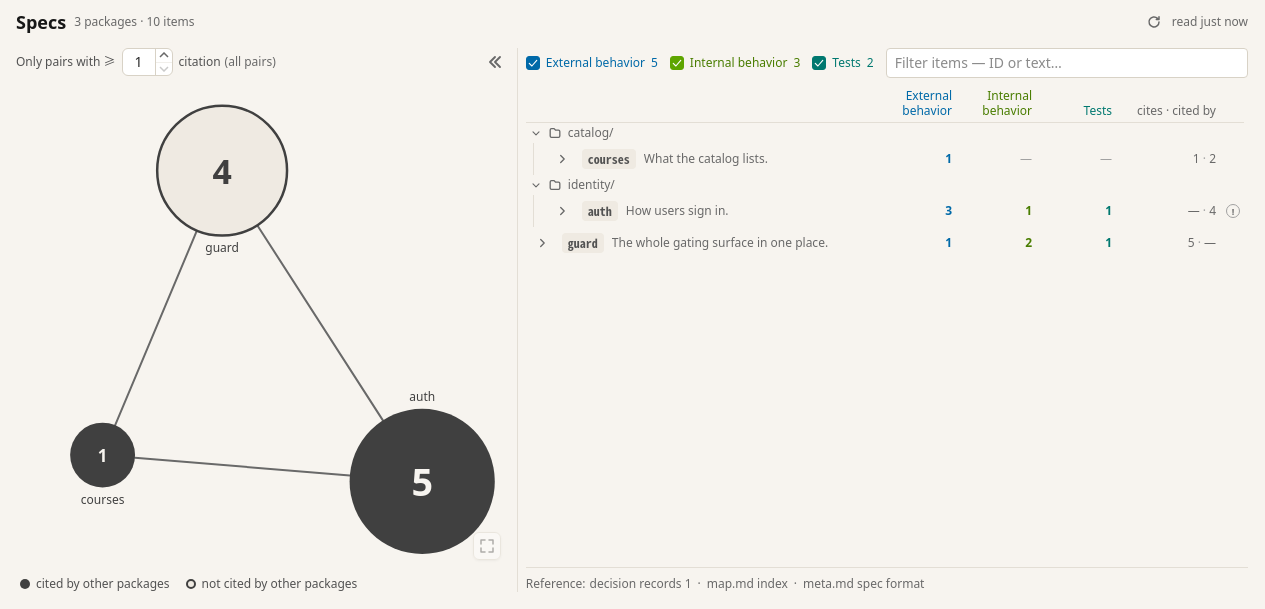
spec-view-65: columns and filters › one heading row names the columns; a filtered group leaves them, said once
The image size is (1265, 609).
Expected: the element labelled "External behavior" is shown, [902,87,952,119]
Expected: the element labelled "Internal behavior" is shown, [982,87,1032,119]
Click the button with test id "filter-internal" at (735, 63), box [670,53,800,73]
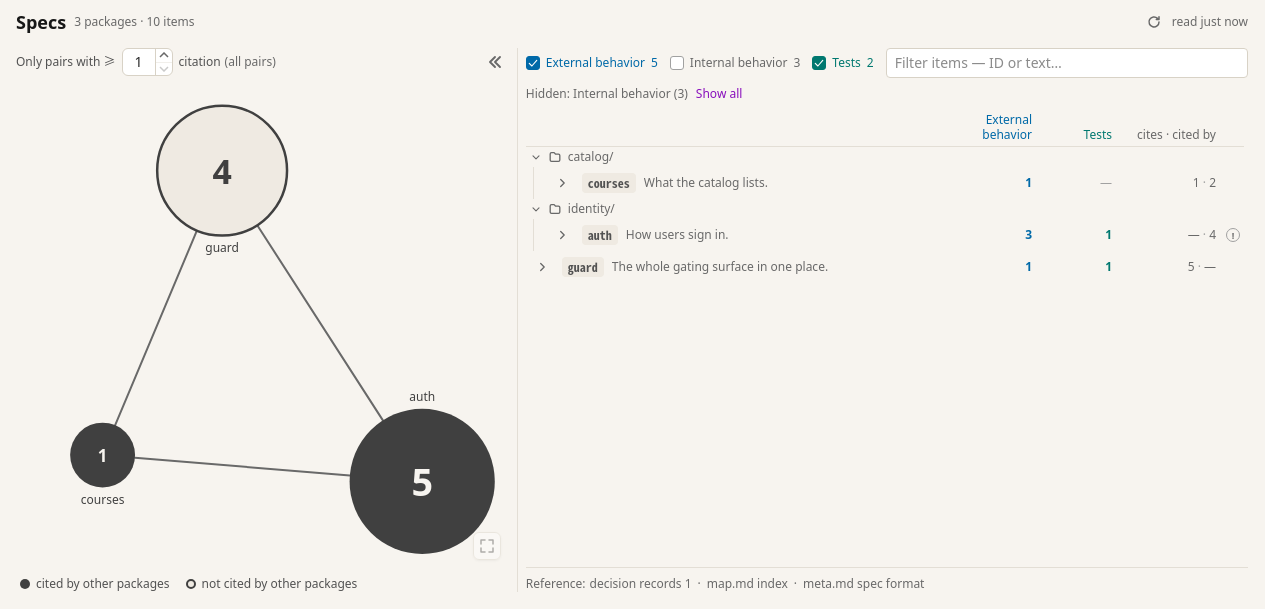
Expected: the element with test id "column-internal" is gone
Expected: the element with test id "hidden-groups" shows "Hidden: Internal behavior (3)", [526,85,688,102]
Click the button with test id "filter-test" at (843, 63), box [812,53,874,73]
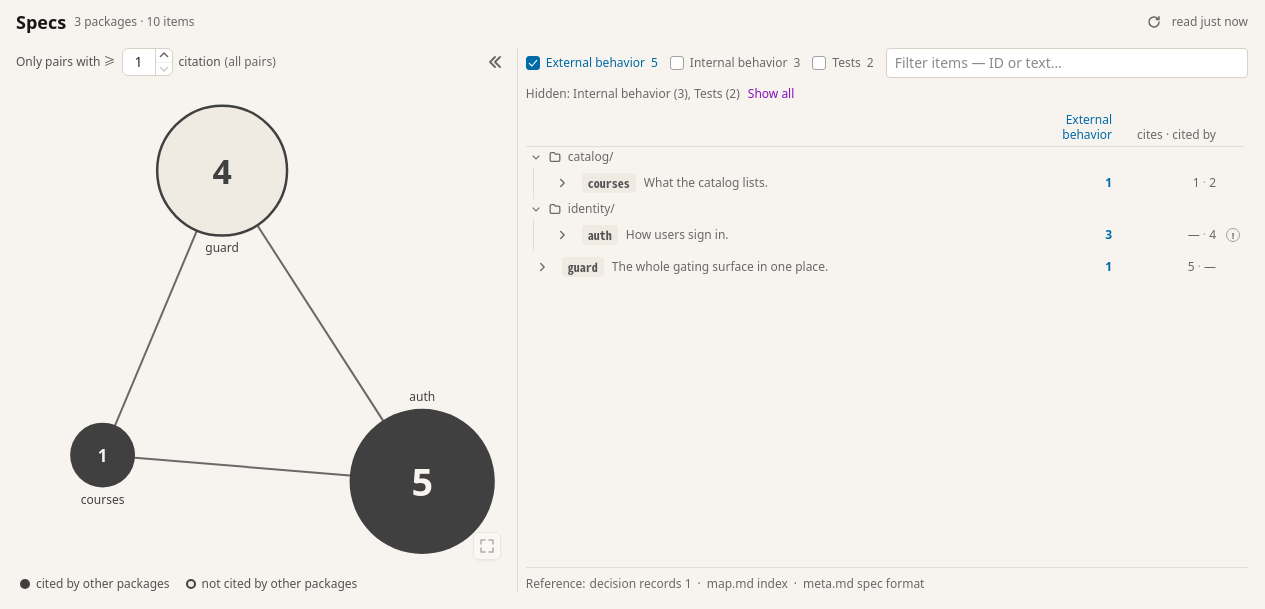
Expected: the element with test id "hidden-groups" shows "Internal behavior (3), Tests (2)", [526,85,740,102]
Click the button with test id "show-all-groups" at (771, 94), box [748,86,794,102]
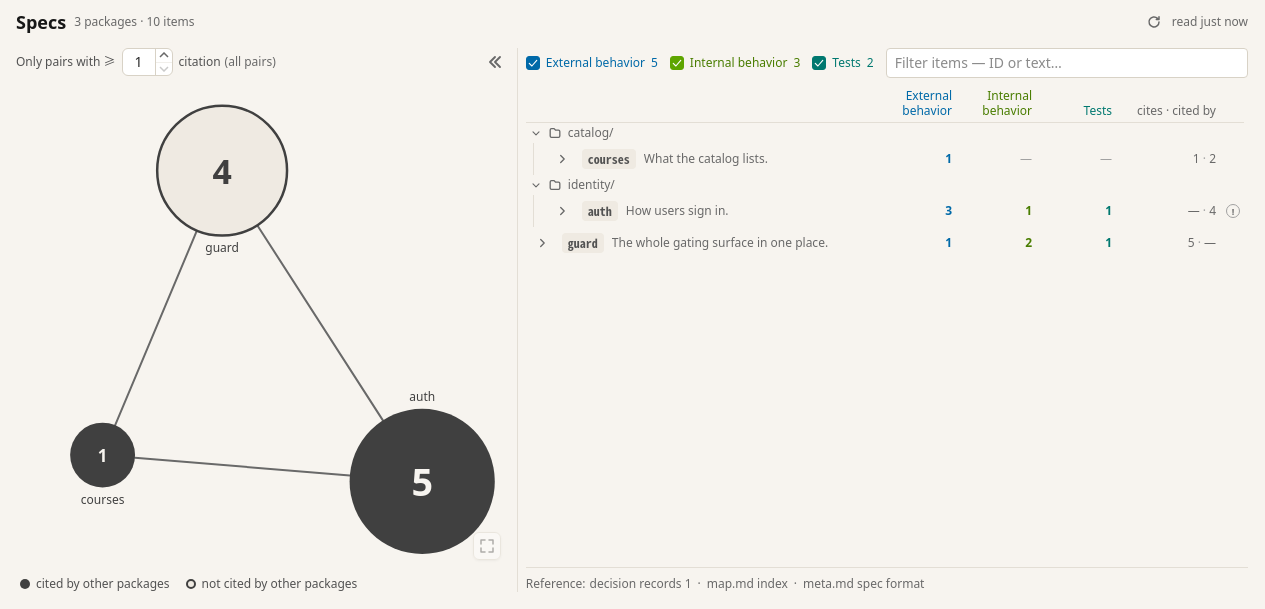
Expected: the element with test id "column-internal" is shown, [982,87,1032,119]
Expected: the element with test id "hidden-groups" is gone
